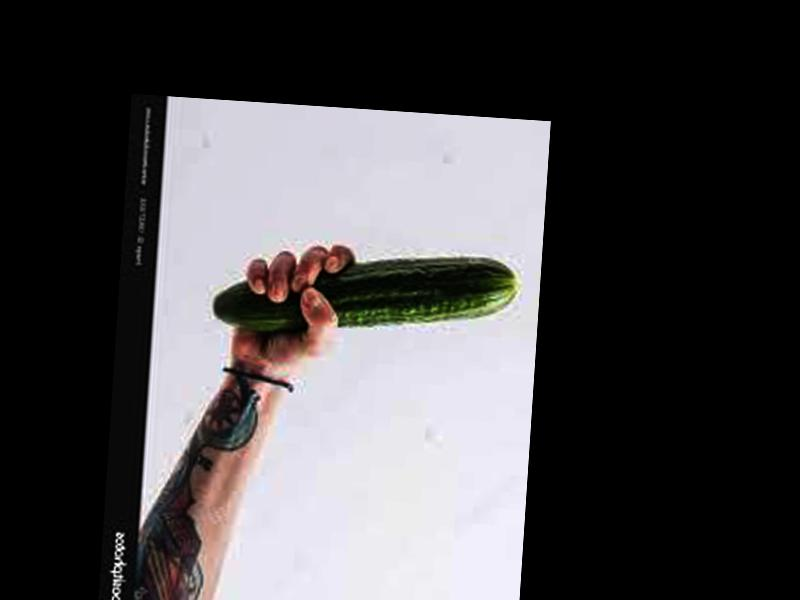Cucumber: (214, 240, 521, 347)
